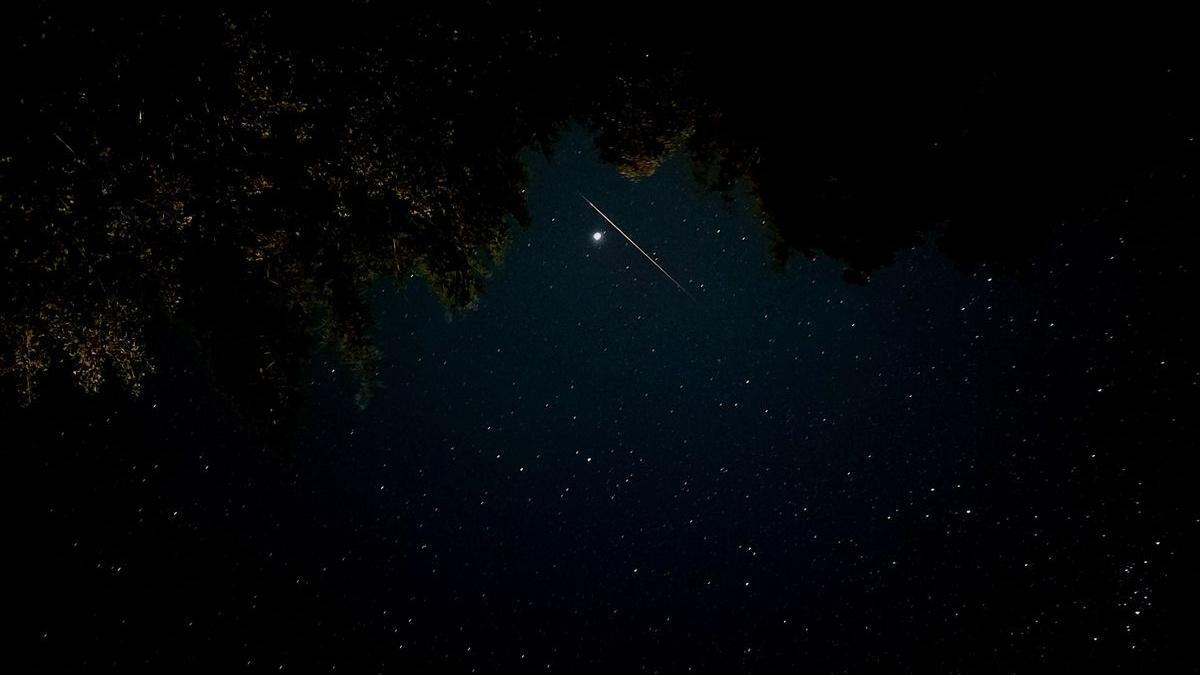meteorite: (578, 186, 721, 298)
